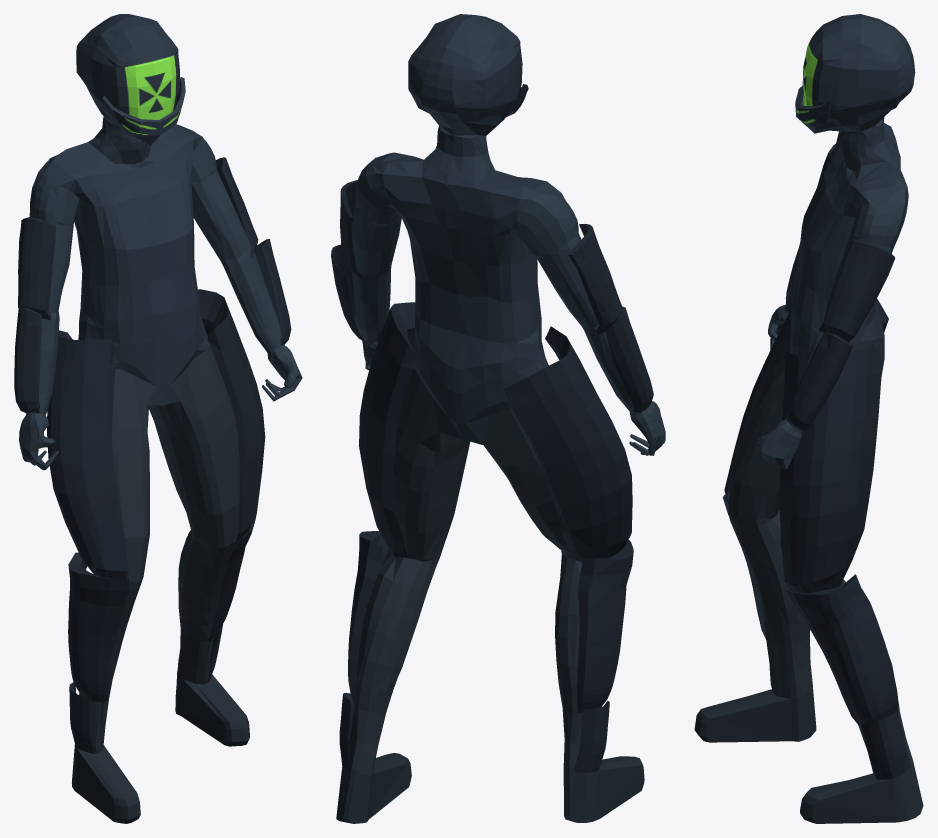
Rendered from Bastion_Stun_Recover_000005.obj.
3 renders of one model, left to right at view 1: azimuth 30°, elevation 25°; view 2: azimuth 150°, elevation 25°; view 3: azimuth 270°, elevation 25°, orthographic. The views are drawn at different scales.
Parts seen in each view (by area): view 1: Cube.002; view 2: Cube.002; view 3: Cube.002.
Boxes of the visible parts, bbox=[...] form: Cube.002: bbox=[14, 14, 302, 823]; Cube.002: bbox=[331, 14, 665, 823]; Cube.002: bbox=[694, 14, 923, 823].
Bounding box in the file's own units: 1.51 × 3.81 × 1.04.
